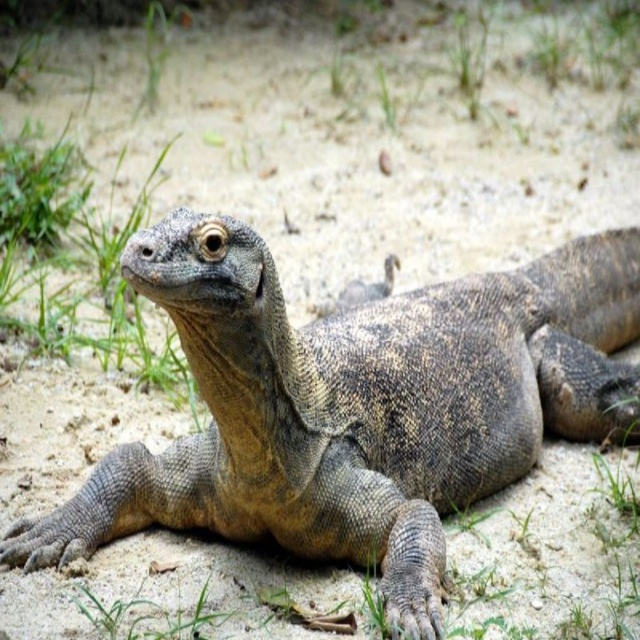Lizard: (0, 206, 640, 639)
